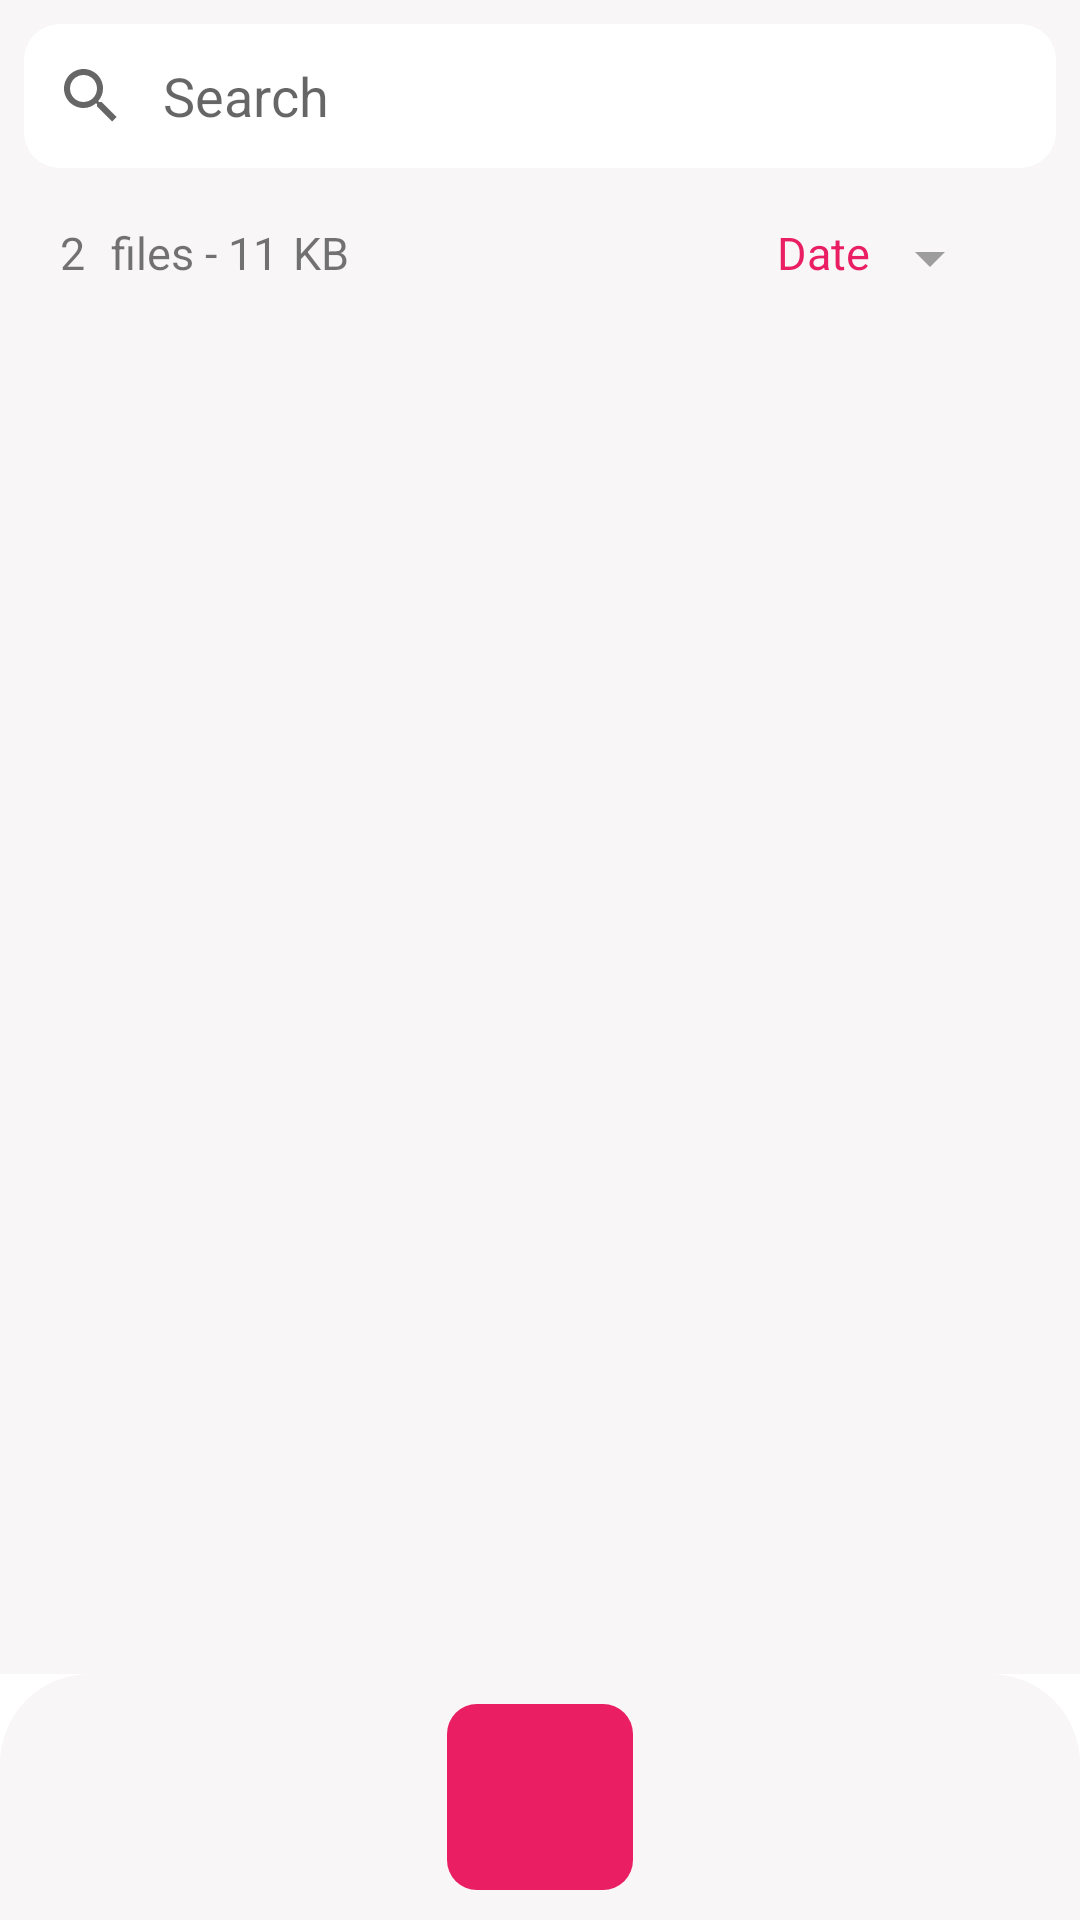

Locate icon controls on the screen. Image size 1080 × 1920, boxes as (x1, y1, x2, y2).
drop down: (915, 252, 945, 267)
